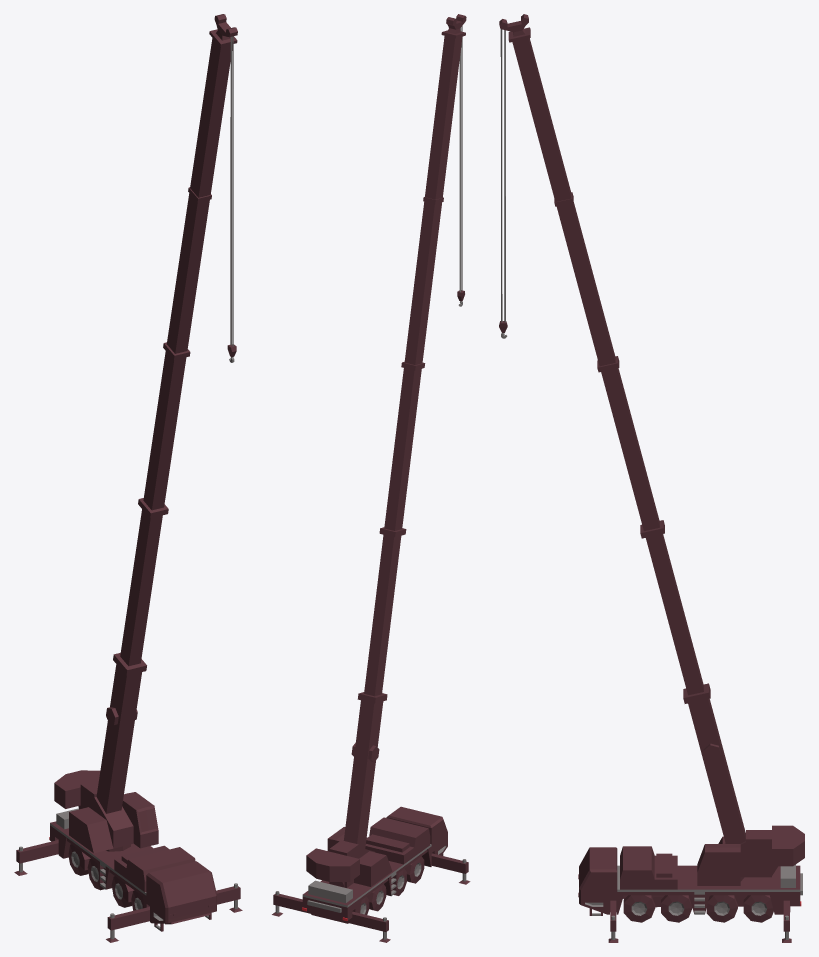
File: crane-mobile-stationary.fbx
3 renders of one model, left to right at view 1: azimuth 30°, elevation 25°; view 2: azimuth 150°, elevation 25°; view 3: azimuth 270°, elevation 25°, orthographic. The views are drawn at different scales.
Visible parts, largest first — view 1: crane-mobile-stationary-arm, crane-mobile-stationary-base, crane-mobile-stationary-top, crane-mobile-stationary-hook; view 2: crane-mobile-stationary-arm, crane-mobile-stationary-base, crane-mobile-stationary-top, crane-mobile-stationary-hook; view 3: crane-mobile-stationary-arm, crane-mobile-stationary-base, crane-mobile-stationary-top, crane-mobile-stationary-hook.
Boxes of the visible parts, x1,y1,x2,y2 form: crane-mobile-stationary-arm: [96, 14, 237, 813]; crane-mobile-stationary-base: [14, 808, 242, 942]; crane-mobile-stationary-top: [54, 770, 158, 853]; crane-mobile-stationary-hook: [227, 36, 236, 362]; crane-mobile-stationary-arm: [343, 14, 466, 848]; crane-mobile-stationary-base: [272, 806, 470, 942]; crane-mobile-stationary-top: [306, 827, 392, 887]; crane-mobile-stationary-hook: [457, 26, 464, 306]; crane-mobile-stationary-arm: [499, 14, 745, 843]; crane-mobile-stationary-base: [578, 846, 802, 942]; crane-mobile-stationary-top: [697, 825, 804, 885]; crane-mobile-stationary-hook: [499, 29, 507, 338].
Bounding box in the file's own units: 6.52 × 44.44 × 13.73.
